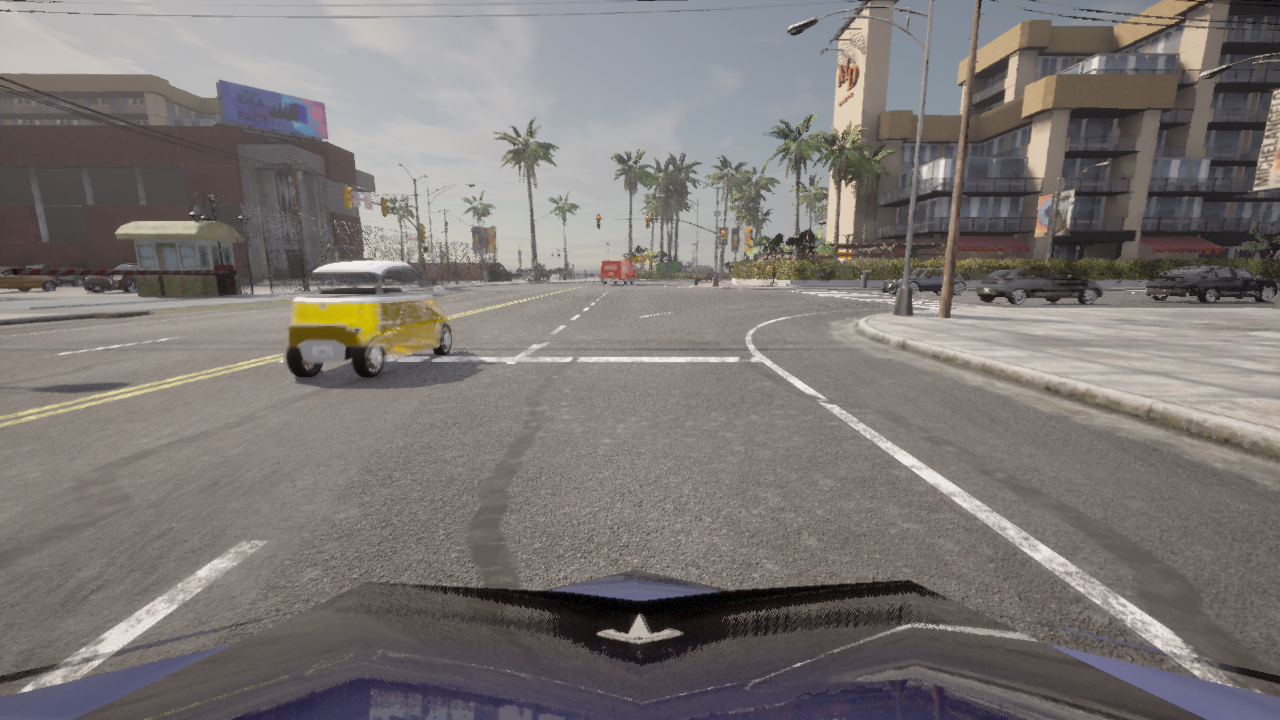cyclist: (0, 569, 1279, 719), (285, 260, 452, 378), (1146, 265, 1279, 303), (975, 266, 1103, 304), (882, 268, 966, 295), (84, 263, 138, 292), (26, 264, 80, 285), (599, 260, 636, 284), (56, 275, 88, 285), (697, 271, 722, 281)
pedestrian: (770, 263, 775, 286)
